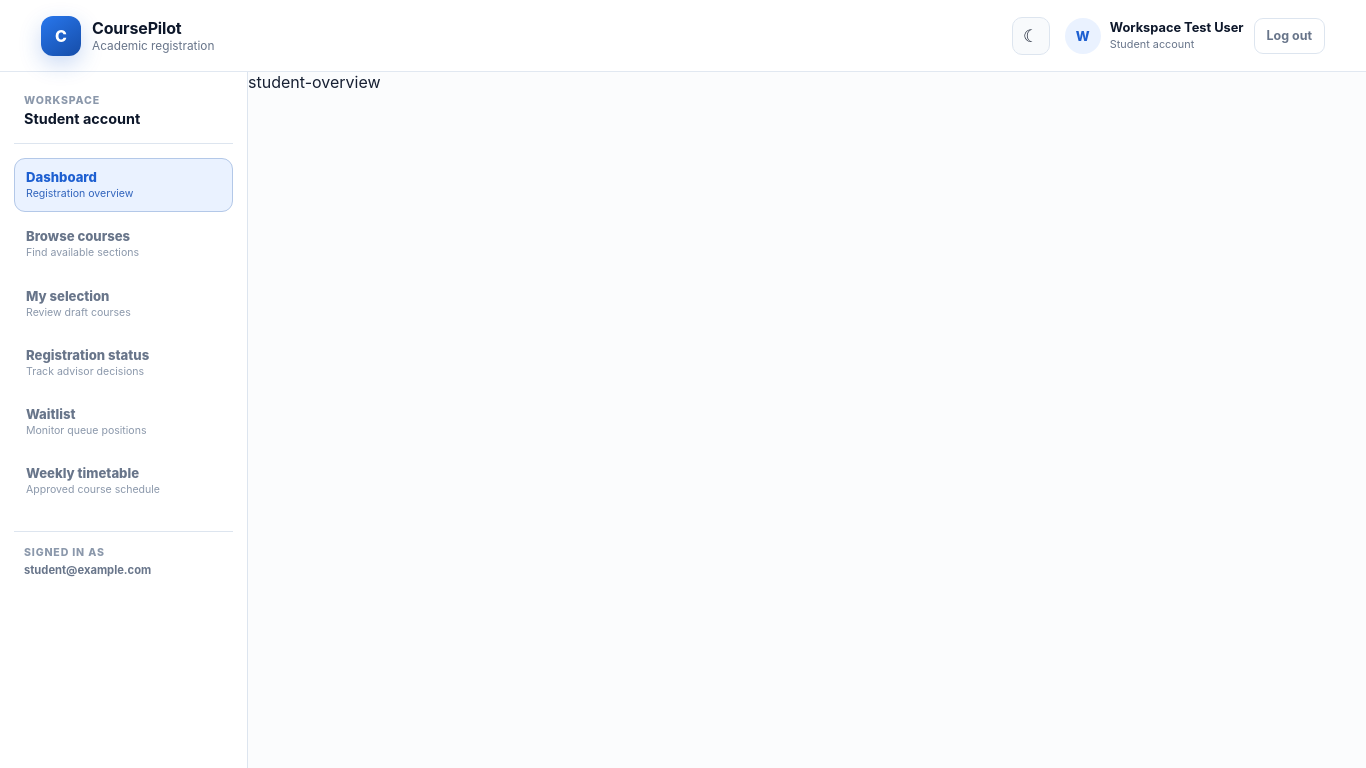
Test: role workspace navigation › gives students focused registration workspaces and changes the active view
expect the text with test id "active-section" reads "student-overview": met, box x1=248 y1=72 x2=381 y2=92
Click the button "Browse courses Find available sections": (124, 244) x1=14 y1=217 x2=233 y2=272
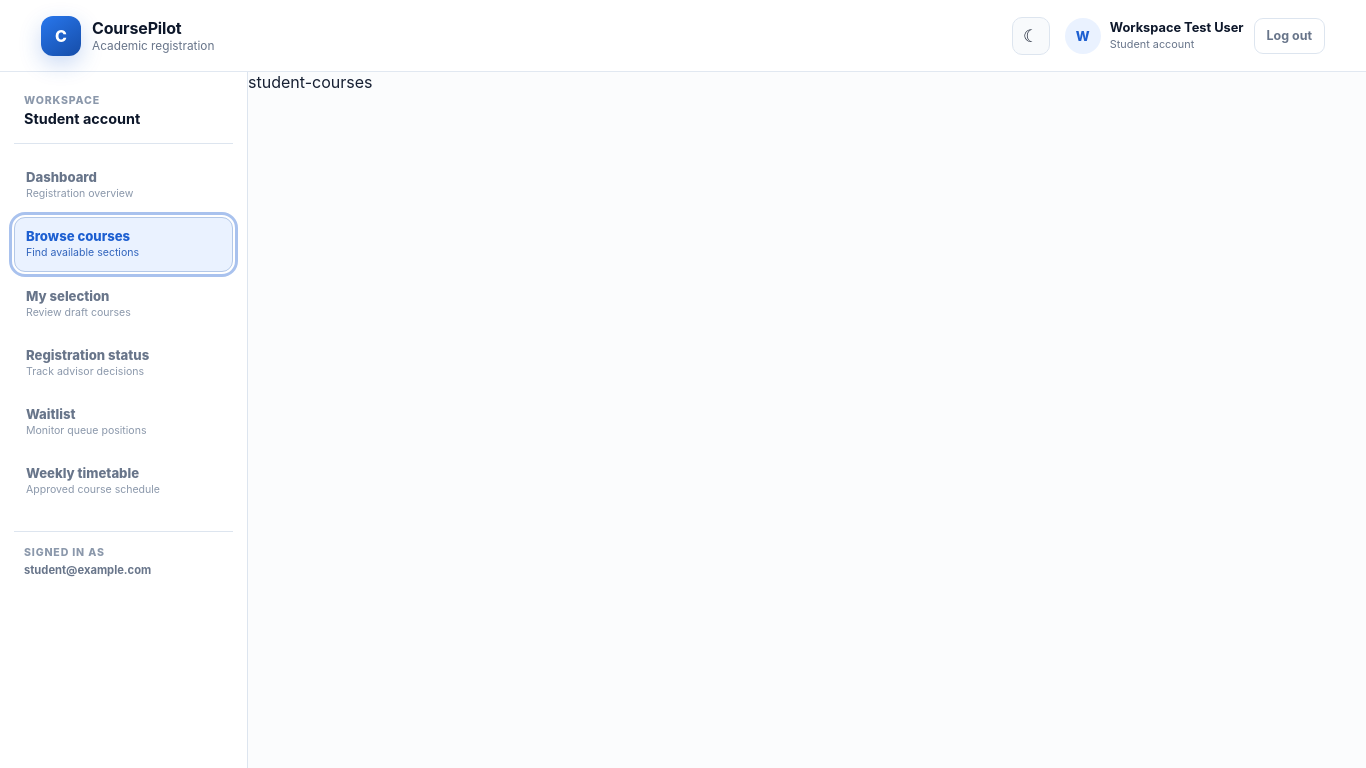
expect the text with test id "active-section" reads "student-courses": met, box x1=248 y1=72 x2=372 y2=92
